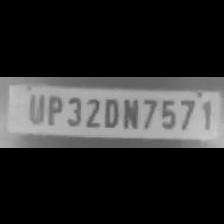1: (196, 96, 214, 130)
2: (82, 94, 102, 128)
3: (64, 93, 82, 127)
5: (156, 96, 176, 128)
7: (176, 95, 196, 129), (138, 96, 156, 128)
D: (100, 94, 119, 128)
N: (119, 94, 139, 128)
P: (42, 92, 62, 126)
U: (22, 90, 44, 124)
